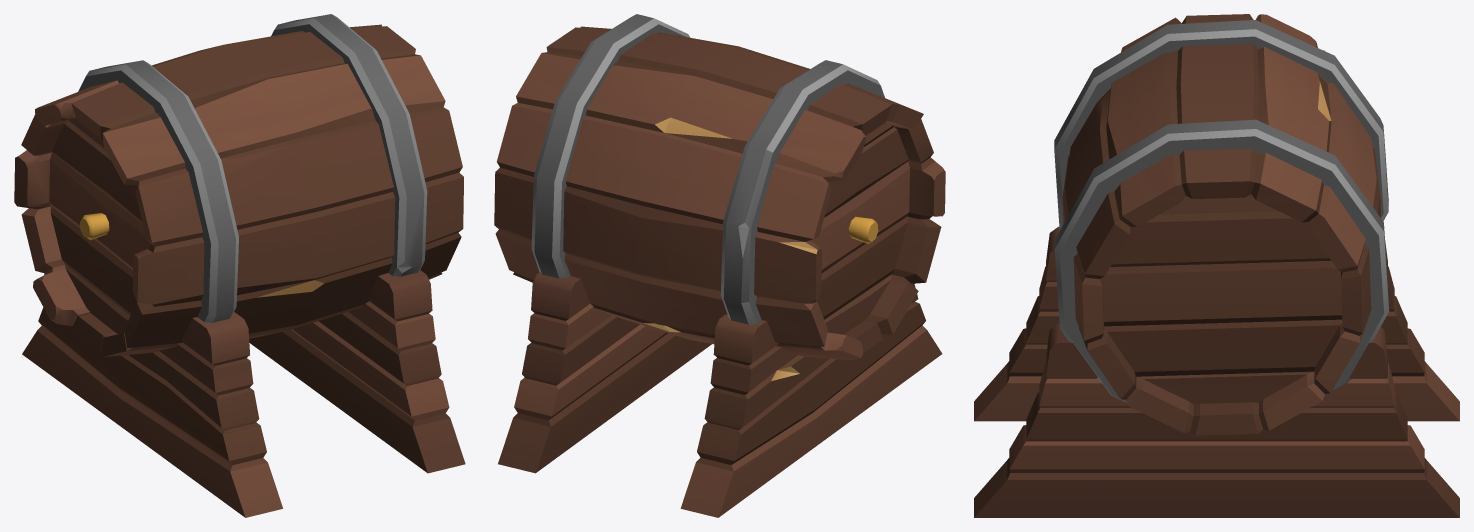
Rendered from Barrel_3_C.glb.
The picture shows the model from 3 angles, left to right: view 1: azimuth 30°, elevation 25°; view 2: azimuth 150°, elevation 25°; view 3: azimuth 270°, elevation 25°; orthographic projection. The views are drawn at different scales.
Parts seen in each view (by area): view 1: Barrel_3_C; view 2: Barrel_3_C; view 3: Barrel_3_C.
Boxes of the visible parts, <box> form: Barrel_3_C: <box>14,14,465,517</box>; Barrel_3_C: <box>494,14,945,517</box>; Barrel_3_C: <box>974,14,1459,517</box>.
Bounding box in the file's own units: 1.01 × 1.05 × 1.2.
2 materials, 2 textured.
